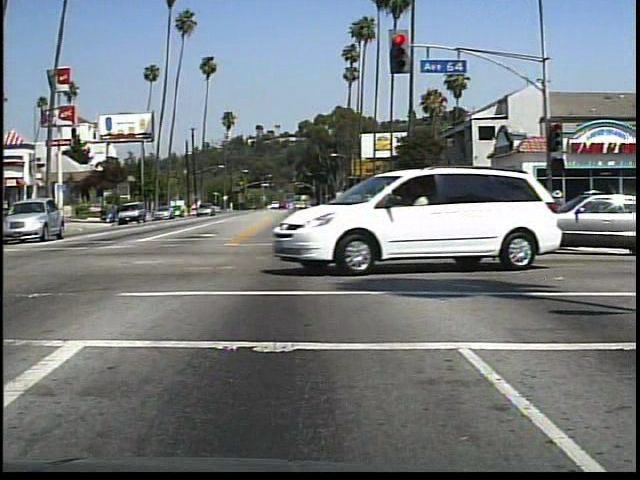person: (543, 187, 569, 237)
